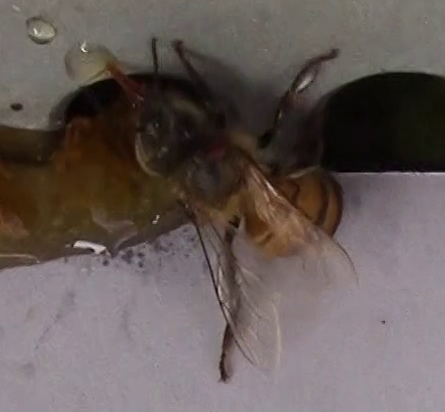Varroa destructor: (200, 133, 232, 159)
